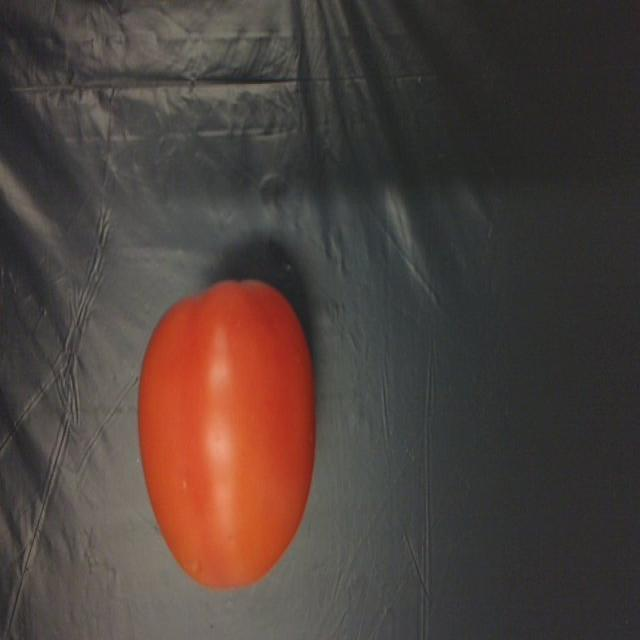kirmizi: (121, 248, 320, 602)
